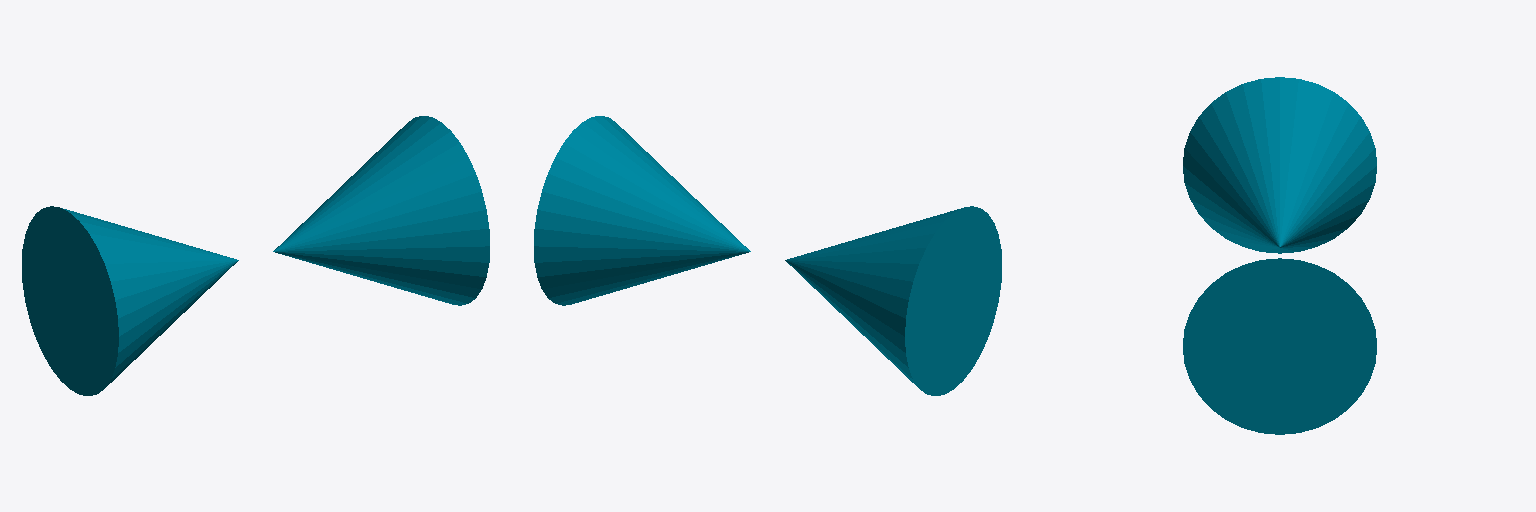
File: gripper.obj
3 views of the same model, side by side, from view 1: azimuth 30°, elevation 25°; view 2: azimuth 150°, elevation 25°; view 3: azimuth 270°, elevation 25° (orthographic).
Parts seen in each view (by area): view 1: Cone; view 2: Cone; view 3: Cone.
Part boxes in pixels (x1,y1,x2,y2): Cone: (22,116,489,395); Cone: (534,116,1001,395); Cone: (1183,77,1376,434).
Bounding box in the file's own units: 2.2 × 1 × 1.